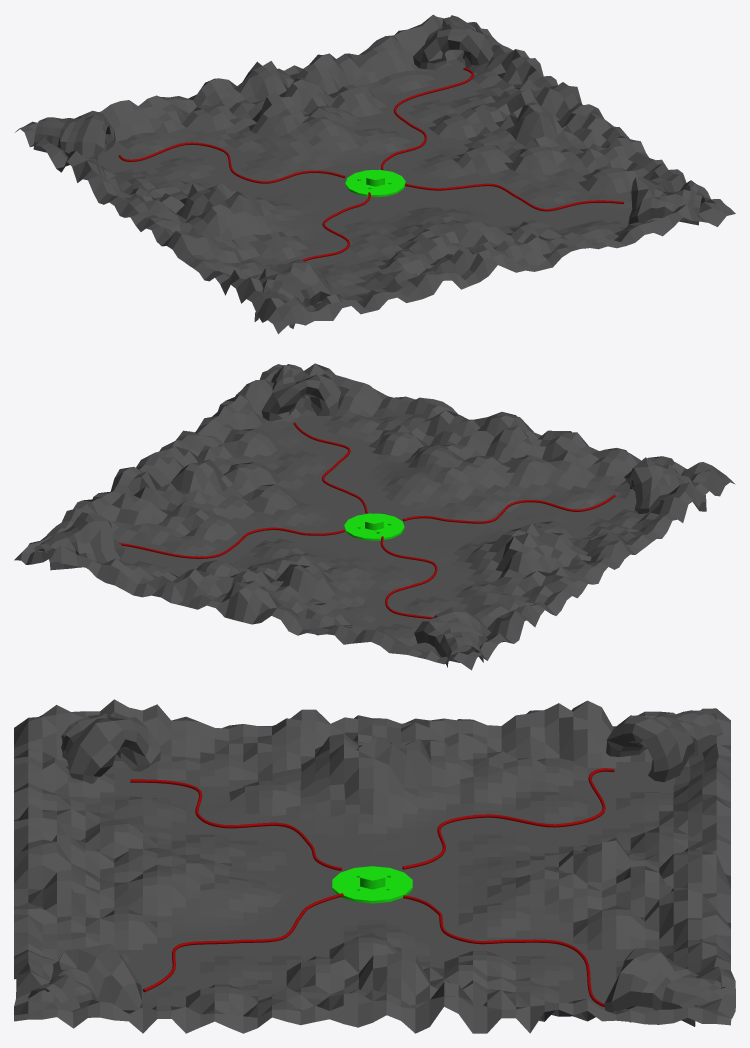
File: Terrain Sketch.FBX
3 renders of one model, top to bottom at view 1: azimuth 30°, elevation 25°; view 2: azimuth 150°, elevation 25°; view 3: azimuth 270°, elevation 25°, orthographic. The views are drawn at different scales.
Visible parts, largest first — view 1: Plane001, Torus001, Torus004, Torus002, Torus003, Cylinder002, Line006, Line004, Line003; view 2: Plane001, Torus003, Torus004, Torus001, Torus002, Cylinder002, Line003, Line005, Line006; view 3: Plane001, Torus004, Torus001, Torus002, Torus003, Cylinder002, Line006, Line005, Line003, Line004.
Part boxes in pixels (x1=…): Plane001: x1=15, y1=14, x2=735, y2=334; Torus001: x1=33, y1=110, x2=115, y2=160; Torus004: x1=413, y1=15, x2=493, y2=72; Torus002: x1=254, y1=259, x2=332, y2=328; Torus003: x1=628, y1=177, x2=704, y2=225; Cylinder002: x1=345, y1=170, x2=405, y2=196; Line006: x1=118, y1=142, x2=345, y2=183; Line004: x1=405, y1=183, x2=623, y2=211; Line003: x1=381, y1=67, x2=474, y2=170; Plane001: x1=14, y1=363, x2=735, y2=670; Torus003: x1=261, y1=364, x2=341, y2=421; Torus004: x1=34, y1=512, x2=125, y2=570; Torus001: x1=414, y1=607, x2=491, y2=667; Torus002: x1=624, y1=457, x2=706, y2=513; Cylinder002: x1=344, y1=513, x2=404, y2=540; Line003: x1=119, y1=527, x2=344, y2=558; Line005: x1=403, y1=494, x2=615, y2=523; Line006: x1=380, y1=536, x2=437, y2=618; Plane001: x1=14, y1=699, x2=735, y2=1033; Torus004: x1=604, y1=948, x2=726, y2=1026; Torus001: x1=606, y1=709, x2=722, y2=782; Torus002: x1=61, y1=713, x2=160, y2=783; Torus003: x1=28, y1=943, x2=142, y2=1013; Cylinder002: x1=332, y1=866, x2=412, y2=903; Line006: x1=402, y1=768, x2=614, y2=869; Line005: x1=130, y1=779, x2=341, y2=870; Line003: x1=403, y1=895, x2=604, y2=1007; Line004: x1=143, y1=893, x2=343, y2=992.
Bounding box in the file's own units: 150 × 15.16 × 151.
